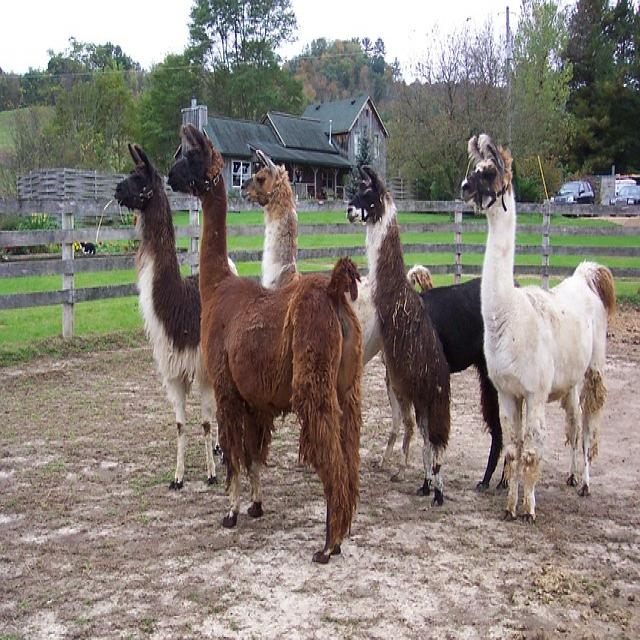Herbivorous: (169, 126, 357, 528), (469, 154, 617, 520), (349, 162, 451, 504), (113, 144, 213, 490), (244, 159, 299, 291)
